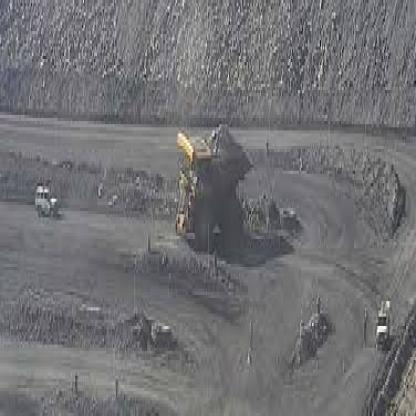dump_truck: (170, 115, 264, 282)
